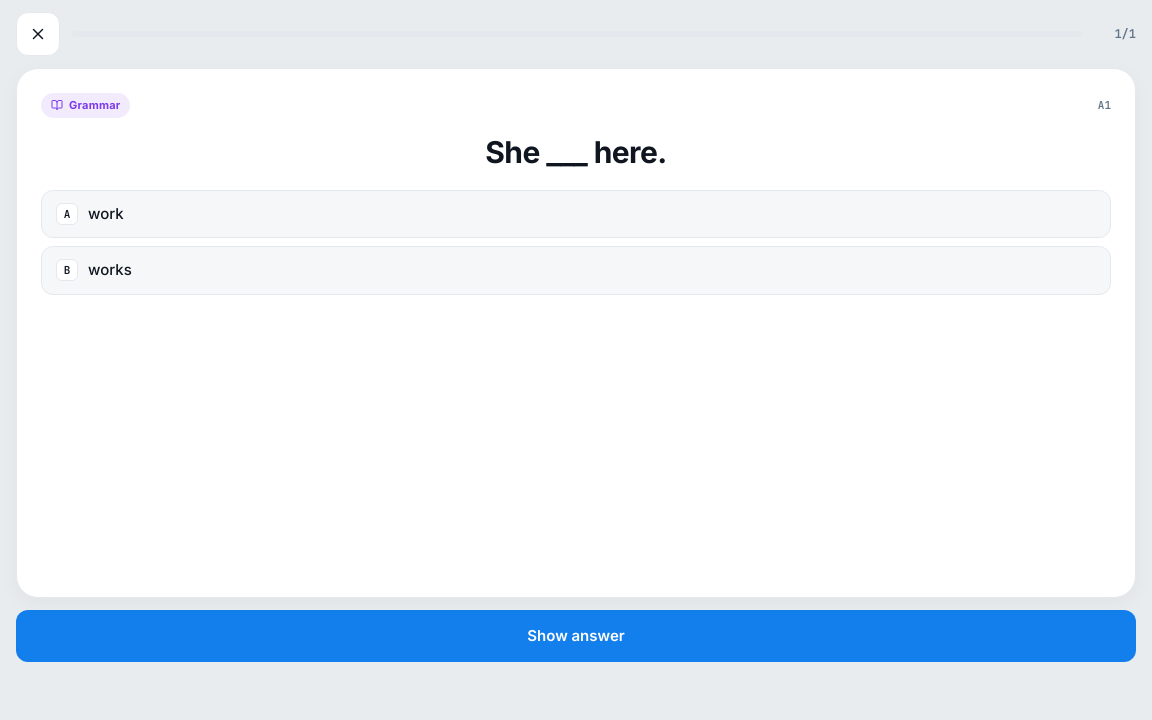
Test case: Review › renders the backend queue head and answer fields
Expected: the text "She ___ here." is shown, [485,134,667,170]
Step 1. Click the button "Show answer" → (576, 636), box [16,610,1136,662]
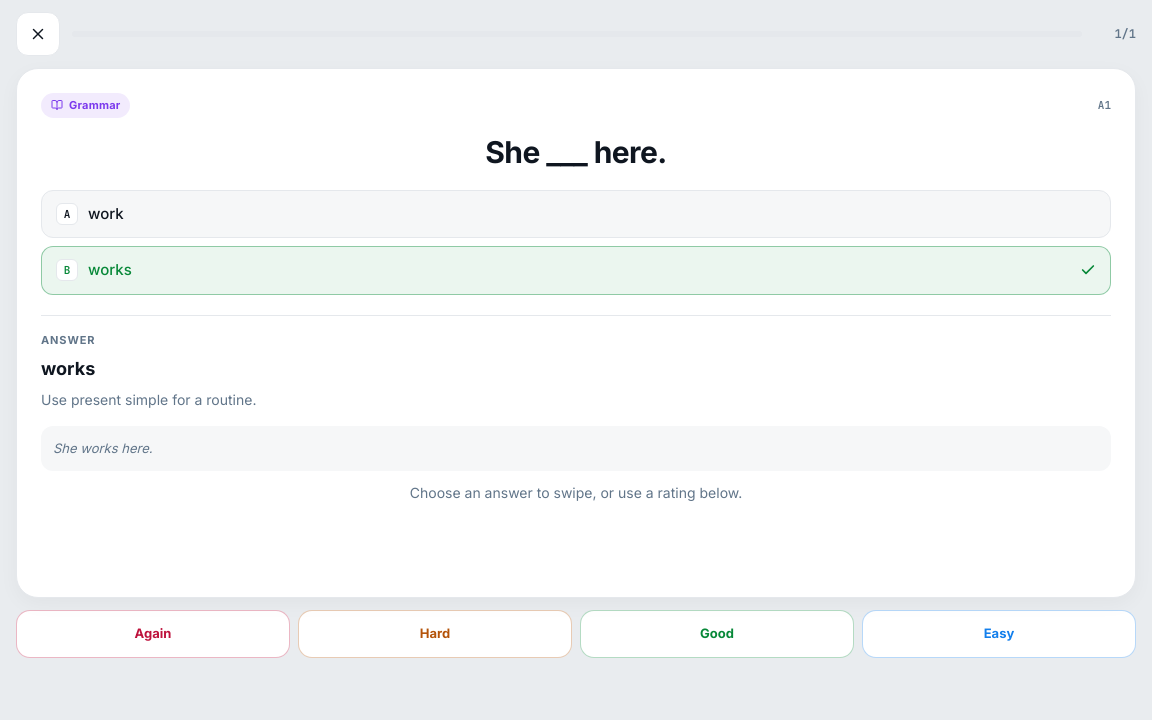
Now the text named "Correct answer" reads "works", box [41,358,95,379]
Now the text "Use present simple for a routine." is shown, box [41,391,256,408]
Now the text "She works here." is shown, box [41,426,1111,471]
